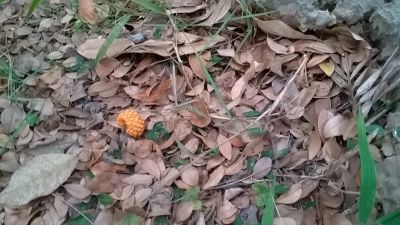eggs: (116, 107, 146, 138)
